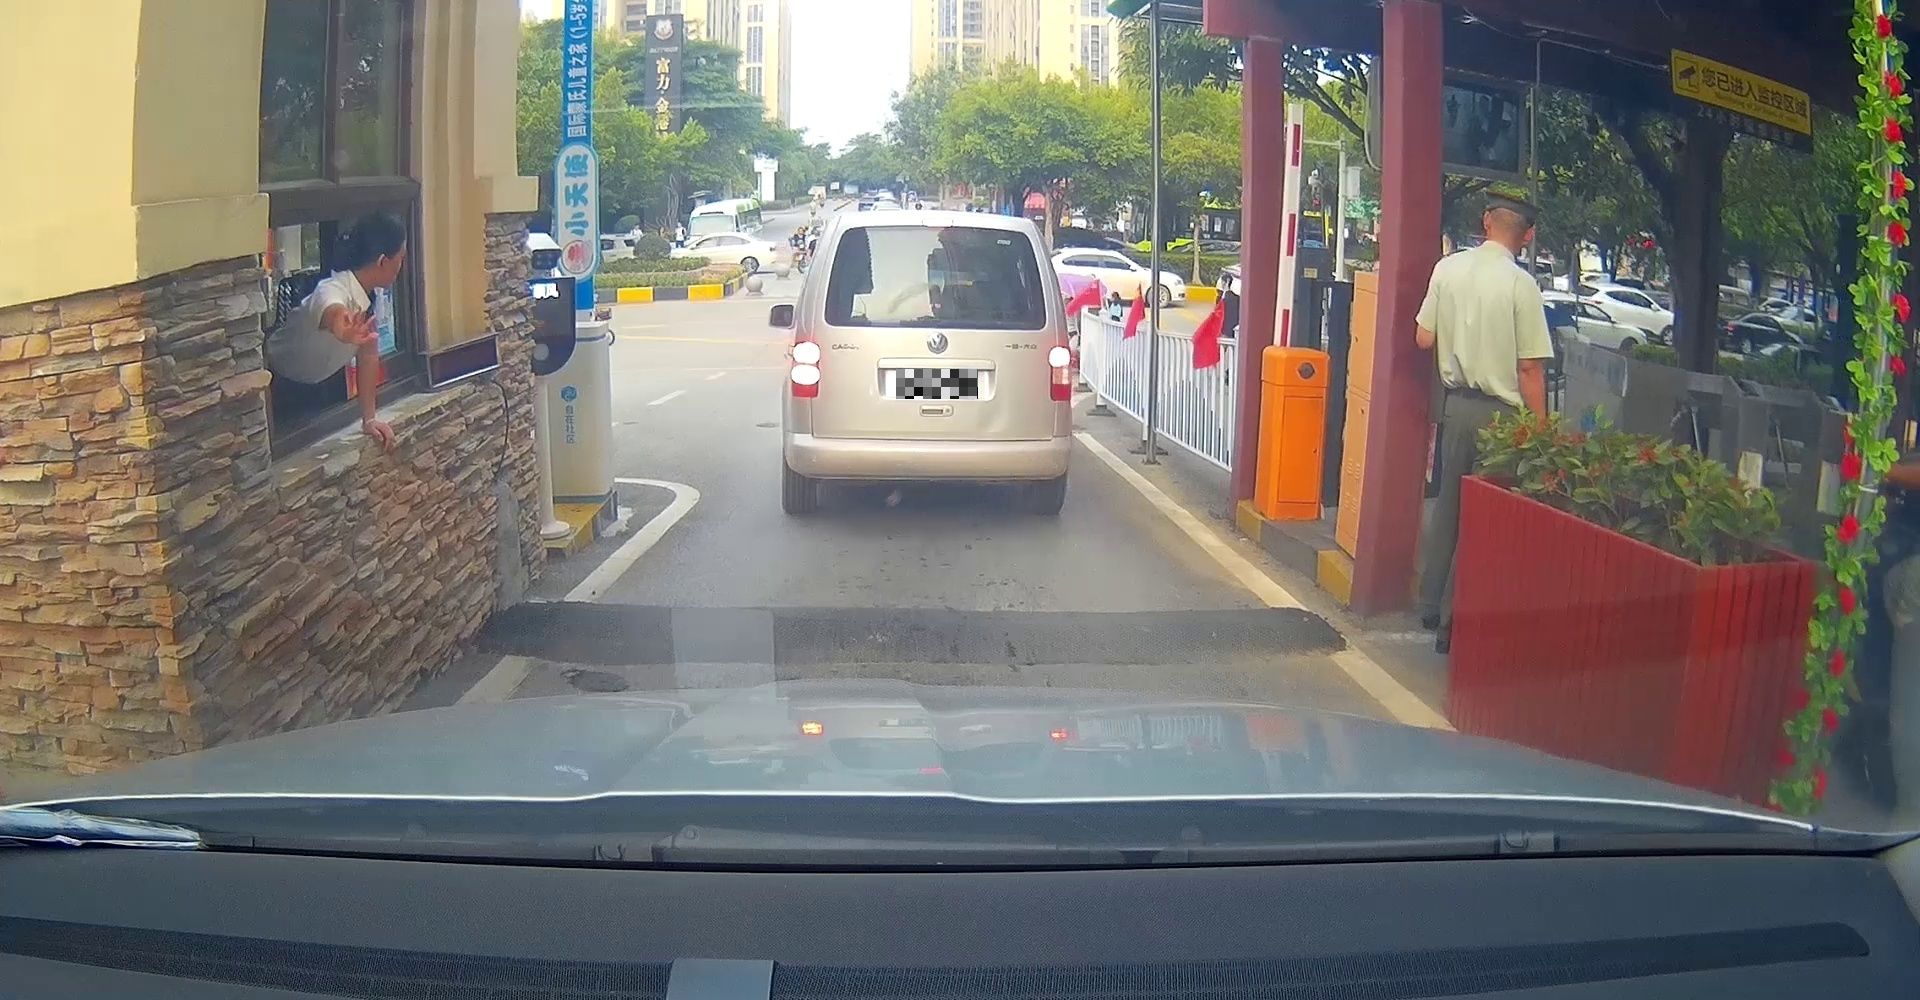L_light: (789, 340, 822, 398)
R_light: (1048, 344, 1073, 402)
T_light: (919, 217, 952, 227)
day-brake: (778, 211, 1073, 518)
plate_1: (897, 369, 978, 398)
